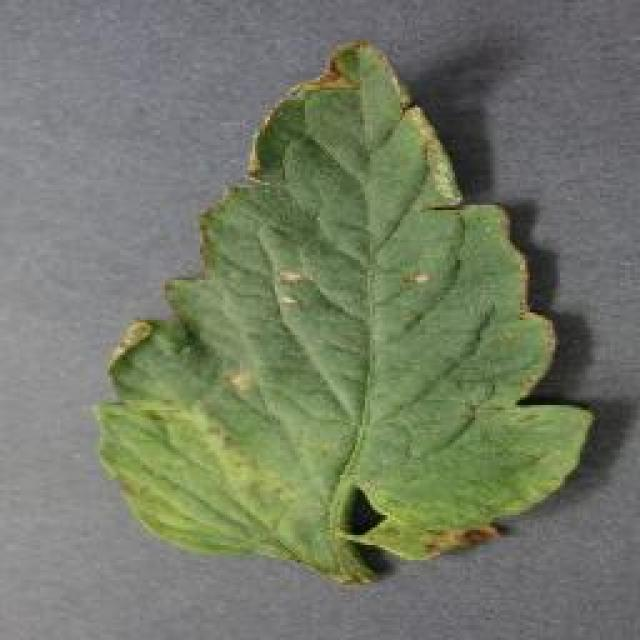Tomato bacterial spot leaf: (119, 40, 586, 580)
